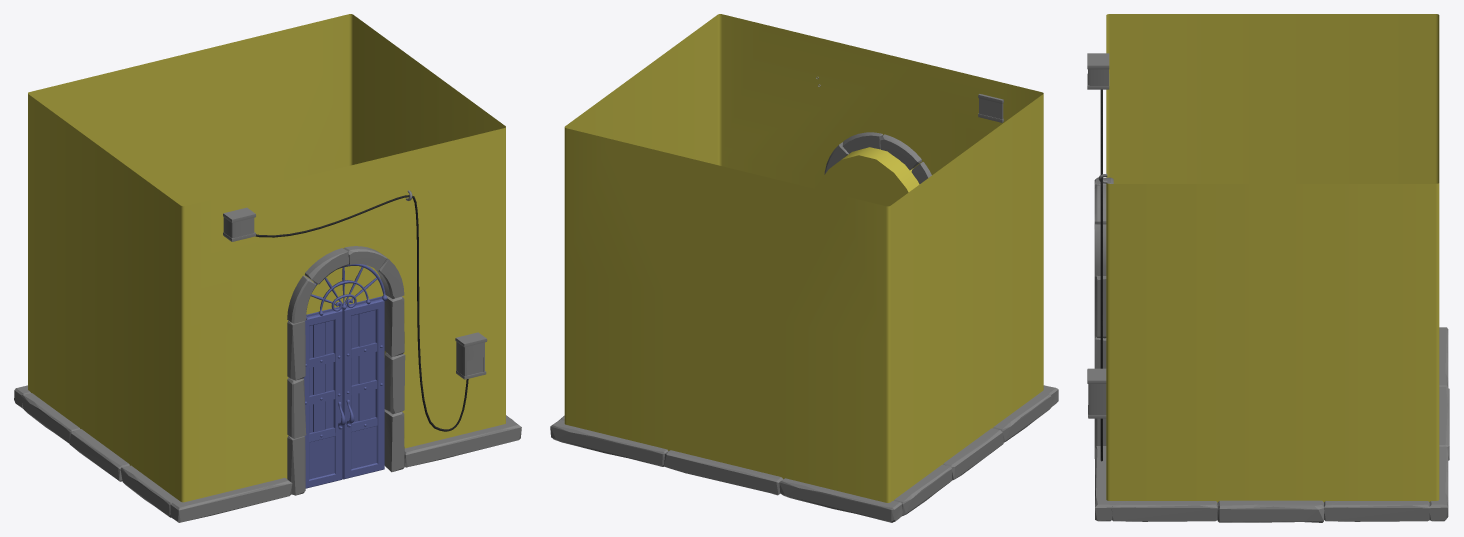
File: SM_building_modular_floor_1x1.fbx
3 renders of one model, left to right at view 1: azimuth 30°, elevation 25°; view 2: azimuth 150°, elevation 25°; view 3: azimuth 270°, elevation 25°, orthographic. The views are drawn at different scales.
Visible parts, largest first — view 1: Object32275; view 2: Object32275; view 3: Object32275.
Boxes of the visible parts, box(x1,y1,x2,y2) form: Object32275: box(14, 14, 521, 522); Object32275: box(550, 14, 1058, 522); Object32275: box(1087, 14, 1449, 522).
Bounding box in the file's own units: 219 × 188 × 184.
